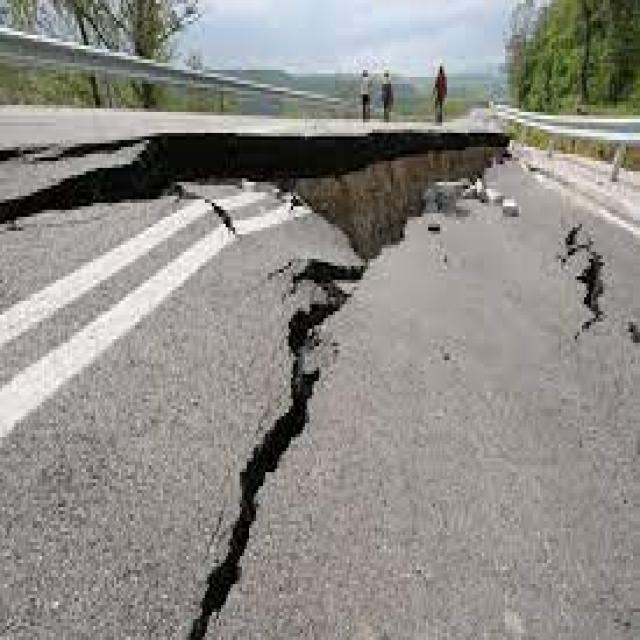Earthquake: (119, 105, 602, 596)
